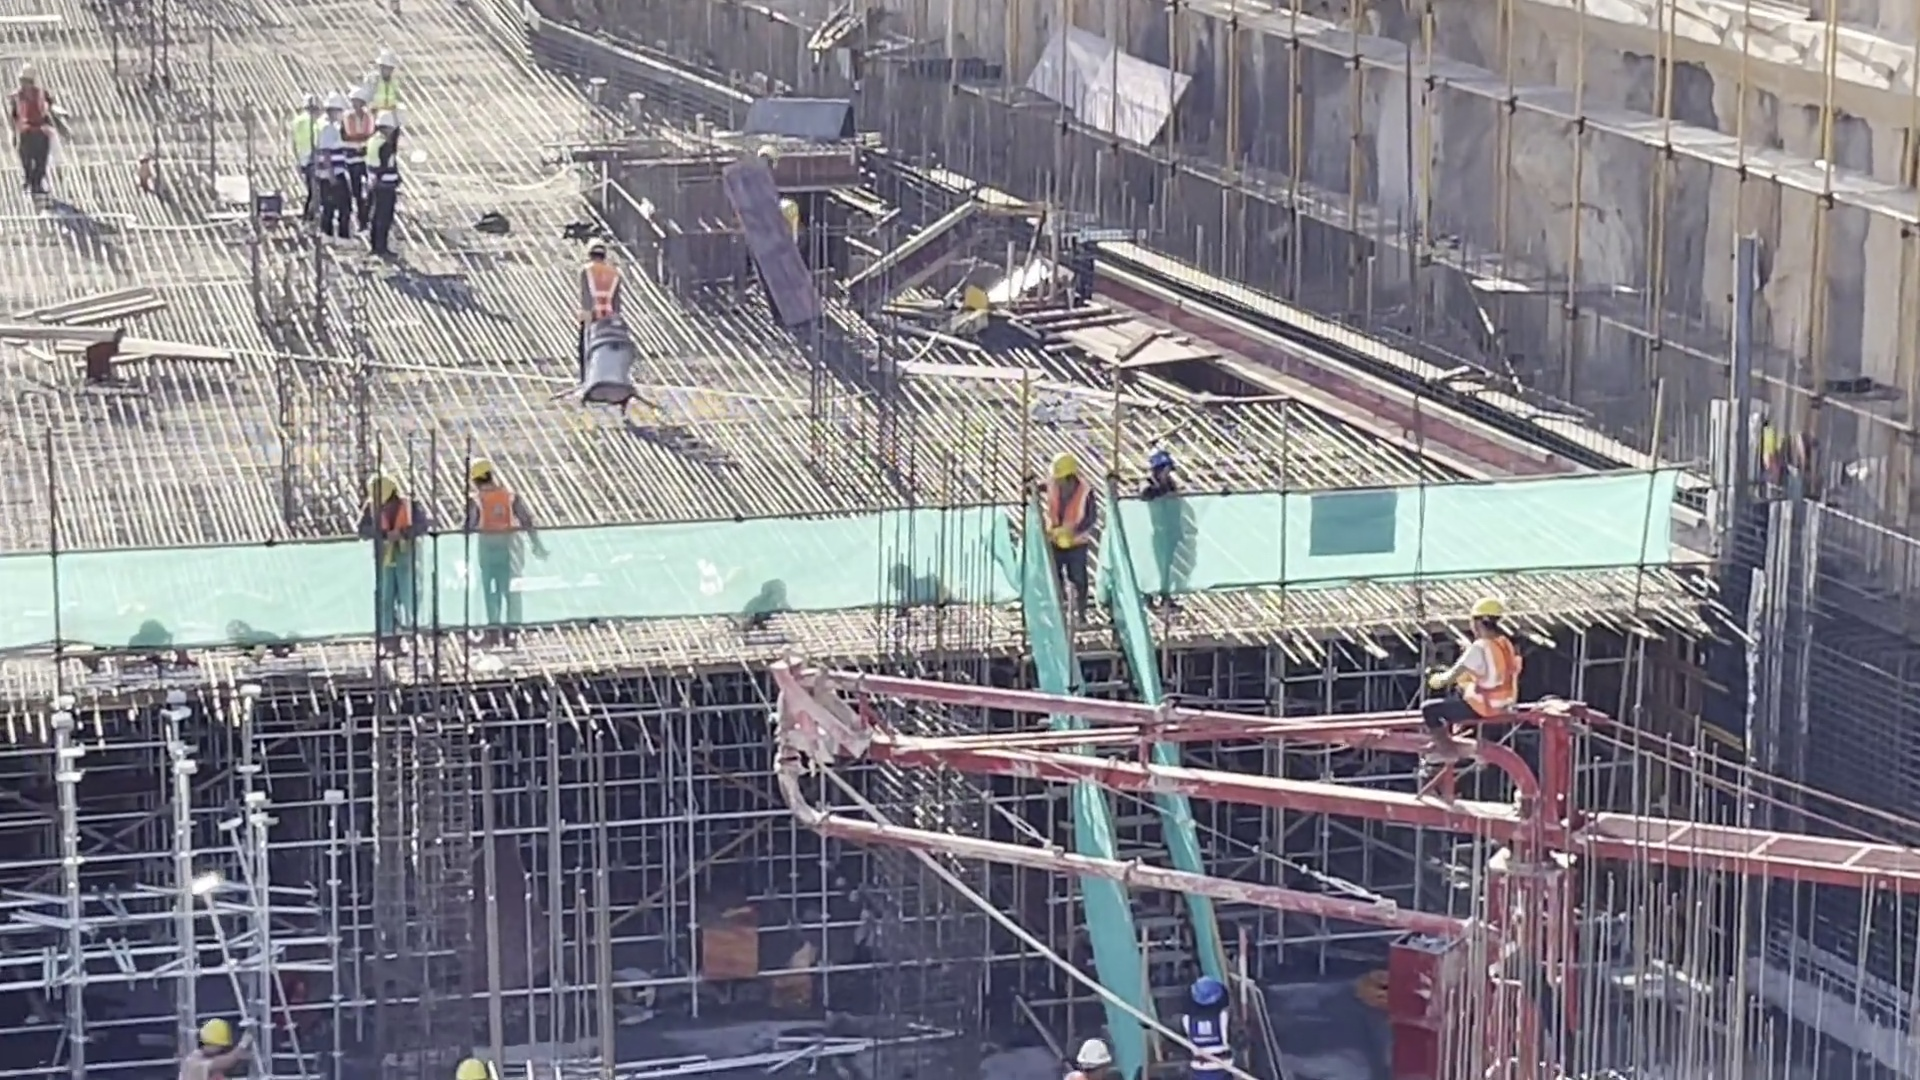helmet: (361, 477, 397, 511), (193, 1016, 231, 1040), (463, 460, 499, 486)
person: (1413, 586, 1524, 782), (295, 92, 411, 261), (453, 451, 525, 644), (357, 463, 426, 651), (1039, 447, 1102, 618), (1162, 965, 1249, 1073), (1, 63, 69, 200), (1145, 445, 1188, 601), (572, 231, 619, 359), (358, 41, 399, 128)
vest: (1034, 473, 1099, 538), (1461, 643, 1524, 706), (1179, 1021, 1240, 1075), (463, 486, 523, 531)
